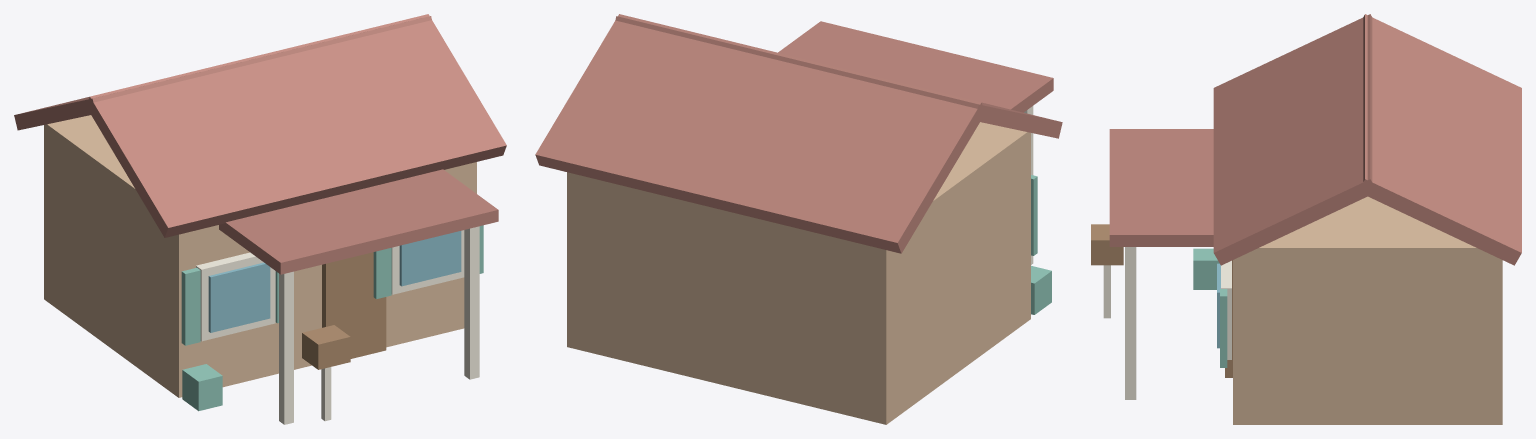
Rendered from home-00.glb.
3 renders of one model, left to right at view 1: azimuth 30°, elevation 25°; view 2: azimuth 150°, elevation 25°; view 3: azimuth 270°, elevation 25°, orthographic. The views are drawn at different scales.
Parts seen in each view (by area): view 1: pitched roof, individual walls, letterbox post, front door, window pane, flower planter; view 2: individual walls, pitched roof, flower planter; view 3: pitched roof, individual walls, letterbox post, flower planter, front door.
Boxes of the visible parts, <box> form: pitched roof: <box>14,14,506,274</box>; individual walls: <box>44,115,476,397</box>; letterbox post: <box>196,226,479,424</box>; front door: <box>302,252,386,369</box>; window pane: <box>208,231,461,332</box>; flower planter: <box>181,225,483,411</box>; individual walls: <box>567,122,1030,424</box>; pitched roof: <box>535,14,1062,253</box>; flower planter: <box>1031,175,1051,314</box>; pitched roof: <box>1109,14,1521,265</box>; individual walls: <box>1233,196,1502,424</box>; letterbox post: <box>1103,247,1231,399</box>; flower planter: <box>1193,248,1227,367</box>; front door: <box>1091,224,1232,377</box>.
Bounding box in the file's own units: 4.2 × 3.03 × 4.63.
